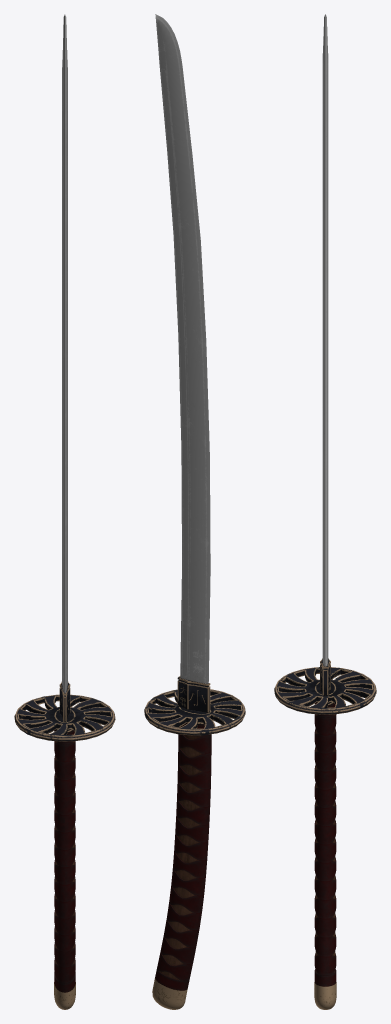
Rendered from antique_katana_01_1k.gltf.
3 renders of one model, left to right at view 1: azimuth 90°, elevation 25°; view 2: azimuth 150°, elevation 25°; view 3: azimuth 270°, elevation 25°, orthographic.
Visible parts, largest first — view 1: antique_katana_01; view 2: antique_katana_01; view 3: antique_katana_01.
Boxes of the visible parts, x1,y1,x2,y2 form: antique_katana_01: (14, 14, 115, 1009); antique_katana_01: (144, 14, 245, 1009); antique_katana_01: (274, 14, 376, 1009).
Bounding box in the file's own units: 0.0934 × 1 × 0.0934.
